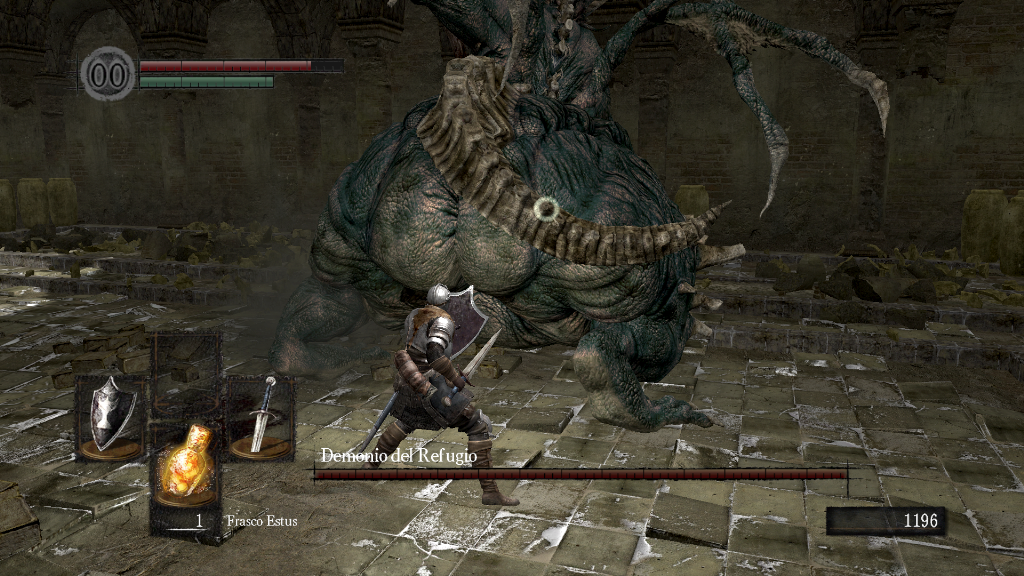asylumDemon: (263, 2, 890, 416)
bossHP: (314, 469, 847, 479)
health: (138, 58, 343, 71)
humanity: (80, 45, 136, 102)
player: (361, 284, 522, 510)
souls: (825, 506, 945, 536)
stamina: (138, 74, 274, 88)
